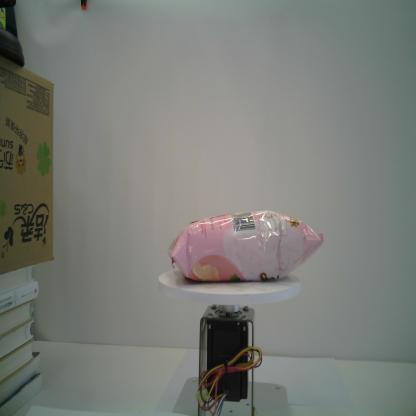Puffed Food: (166, 206, 325, 284)
